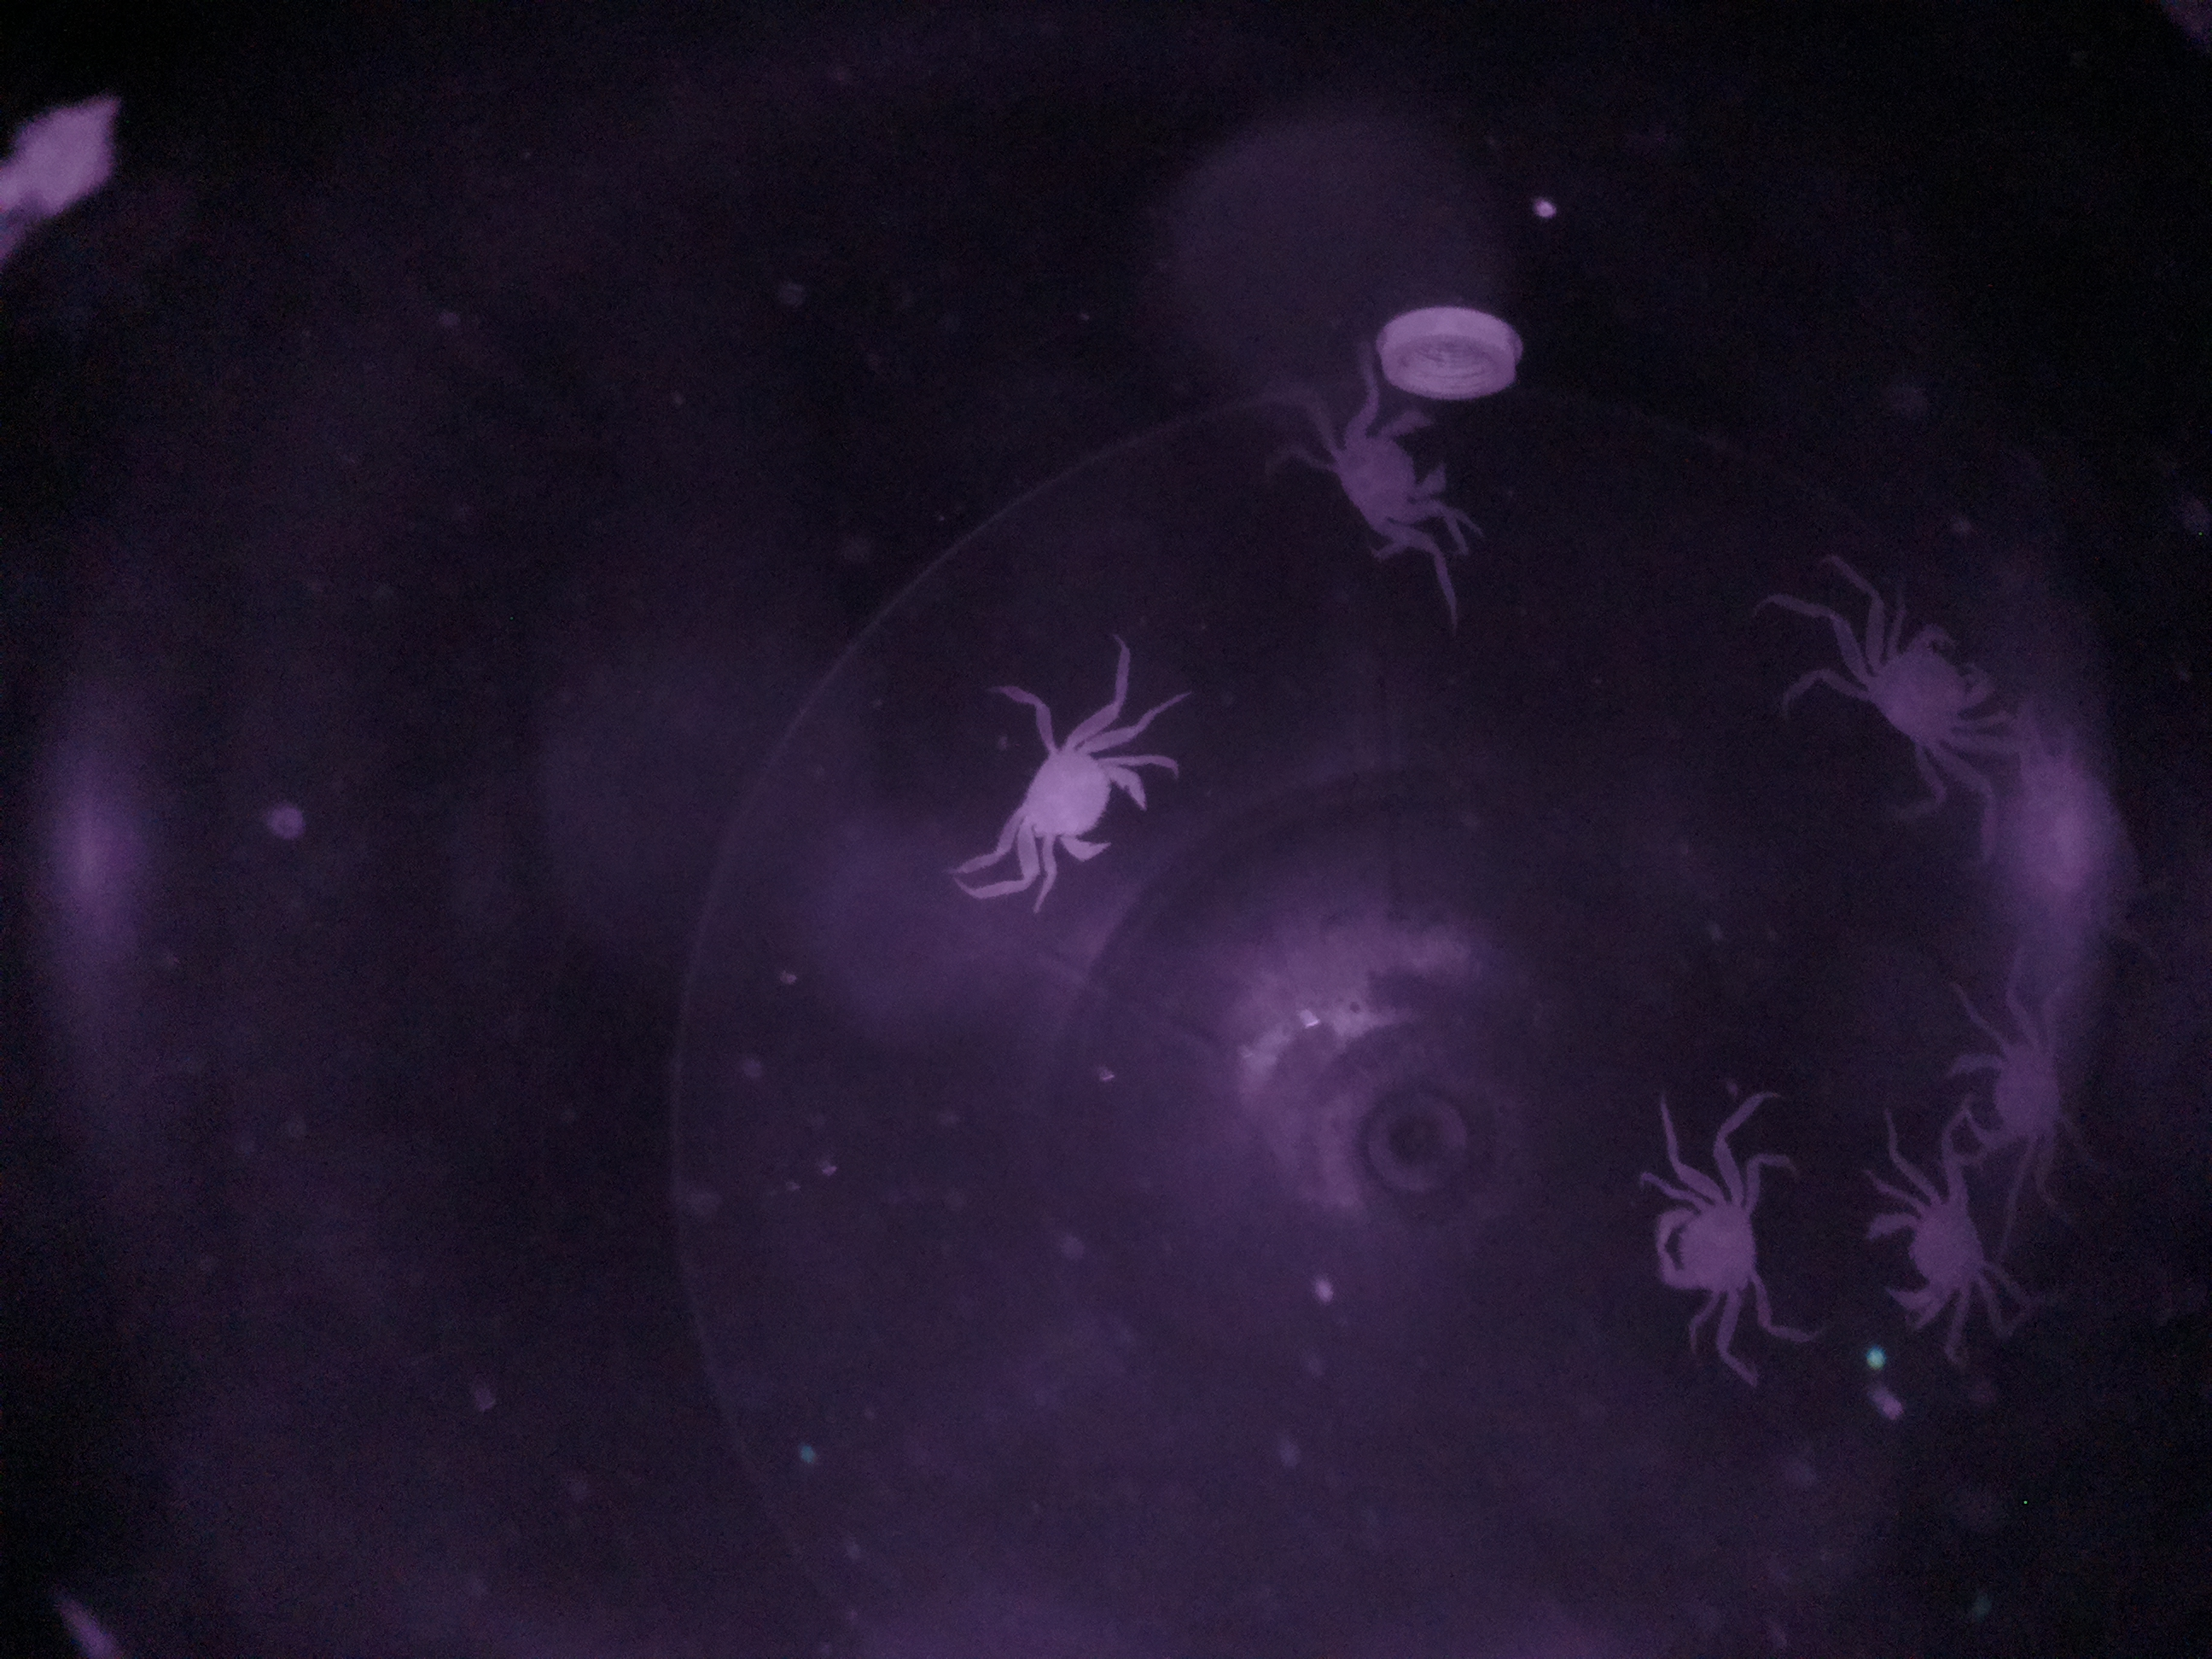Crab: (1836, 605, 2029, 826), (965, 704, 1174, 899), (1292, 397, 1482, 566), (1858, 1134, 2013, 1337), (1622, 1152, 1785, 1321)
